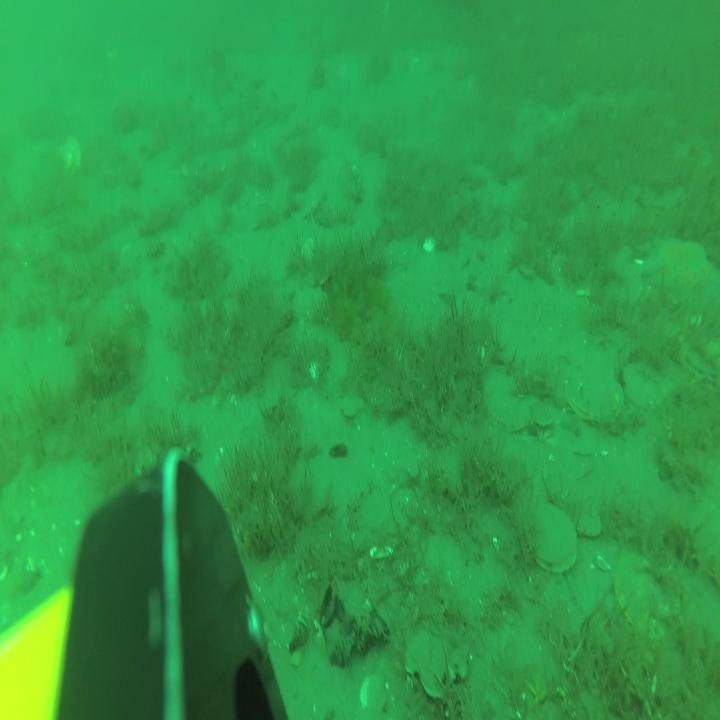scallop: (614, 548, 665, 631), (528, 503, 578, 572), (568, 365, 622, 423), (485, 370, 532, 432), (624, 367, 665, 411), (682, 341, 720, 382), (293, 286, 328, 322), (360, 674, 388, 714), (575, 507, 602, 538), (58, 138, 82, 172), (388, 240, 413, 268), (341, 393, 366, 419), (534, 411, 554, 430)
starfish: (644, 239, 718, 304)
